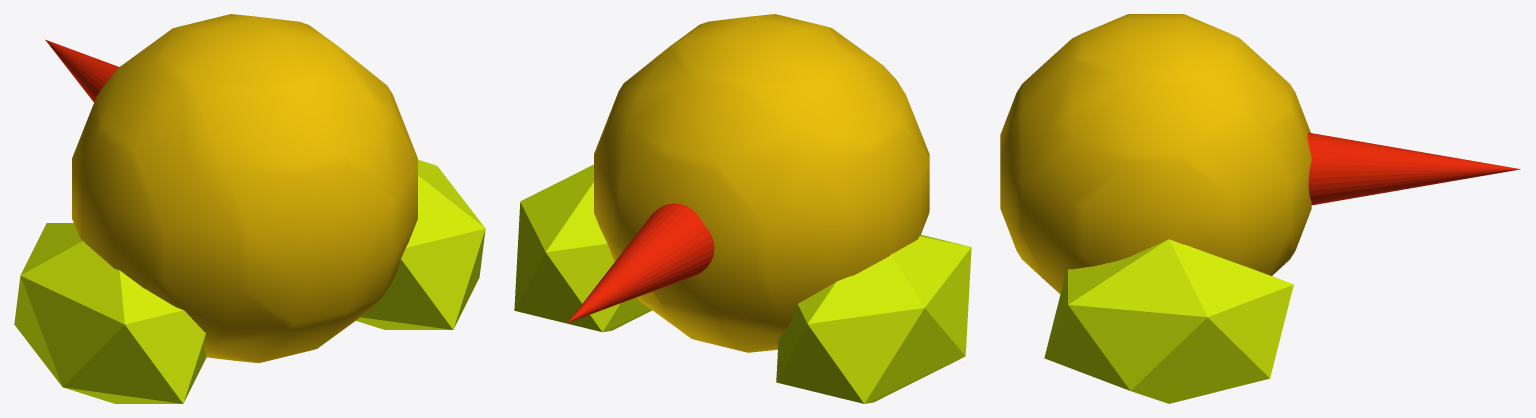
Rendered from enemy_tackle.fbx.
3 renders of one model, left to right at view 1: azimuth 30°, elevation 25°; view 2: azimuth 150°, elevation 25°; view 3: azimuth 270°, elevation 25°, orthographic. The views are drawn at different scales.
Visible parts, largest first — view 1: Mball; view 2: Mball; view 3: Mball.
Boxes of the visible parts, bbox=[...] form: Mball: bbox=[14, 14, 485, 403]; Mball: bbox=[514, 14, 971, 403]; Mball: bbox=[1000, 14, 1520, 403].
Bounding box in the file's own units: 3.15 × 2.49 × 3.73.
